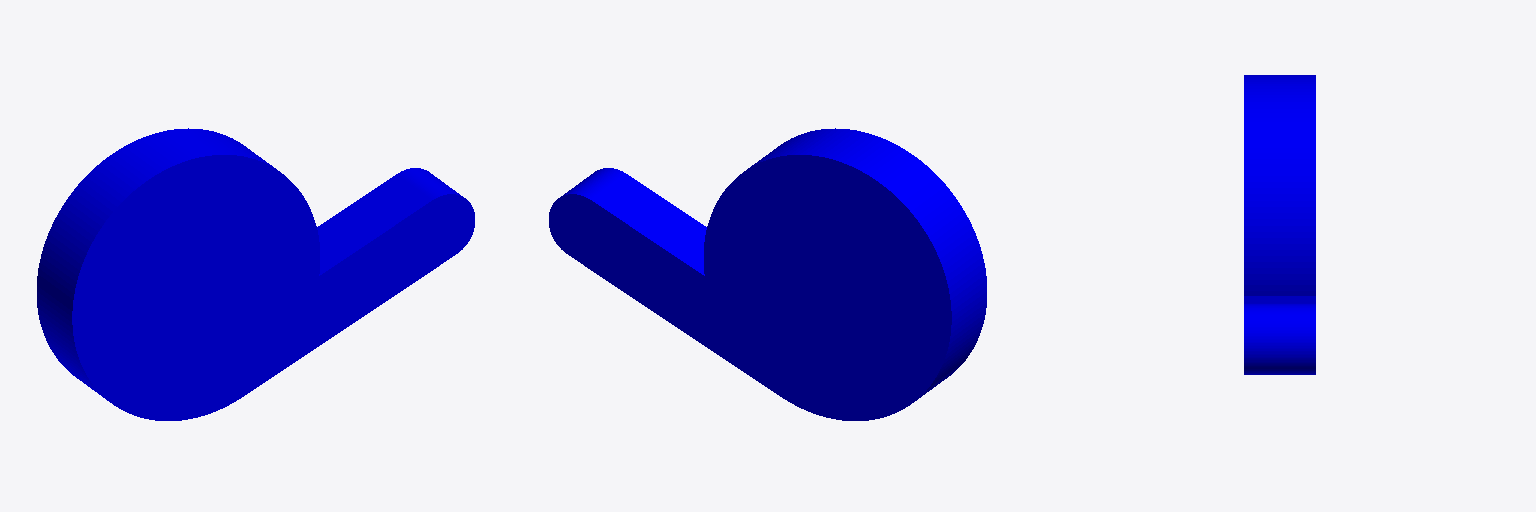
Rendered from ConnectorMover.obj.
3 renders of one model, left to right at view 1: azimuth 30°, elevation 25°; view 2: azimuth 150°, elevation 25°; view 3: azimuth 270°, elevation 25°, orthographic.
Visible parts, largest first — view 1: ConnectorMover; view 2: ConnectorMover; view 3: ConnectorMover.
Boxes of the visible parts, <box> form: ConnectorMover: <box>37,128,474,420</box>; ConnectorMover: <box>549,128,986,420</box>; ConnectorMover: <box>1244,75,1315,374</box>.
Bounding box in the file's own units: 0.65 × 0.4 × 0.1.